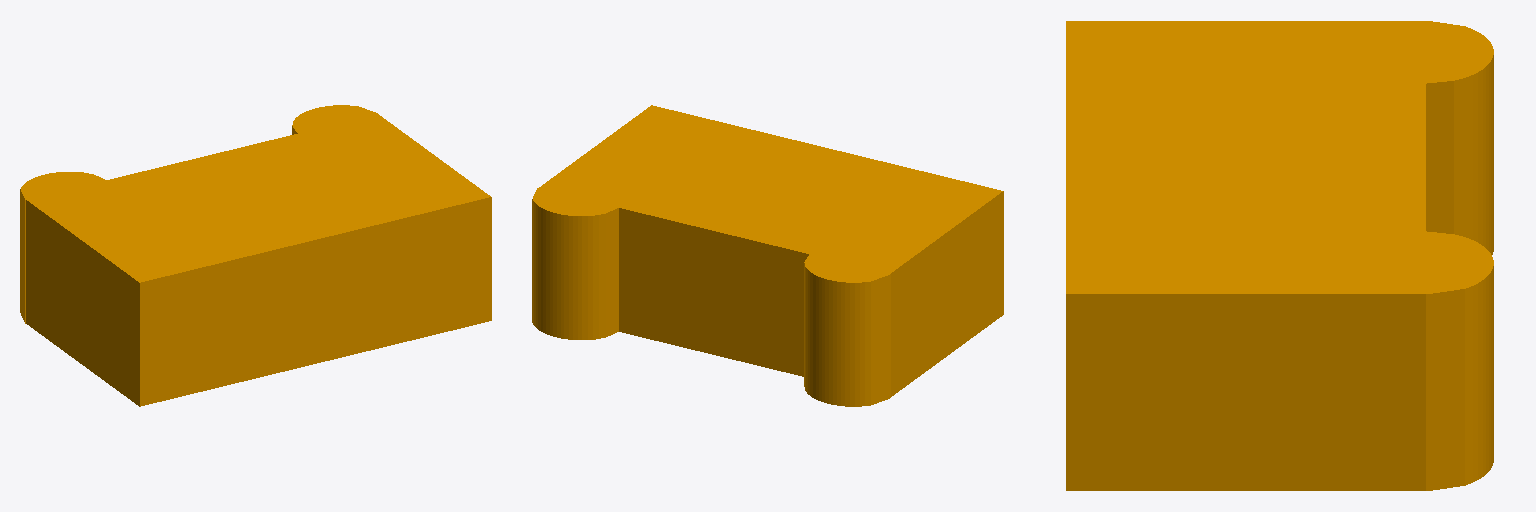
The robot description file, URDF, robot "2v2_65.35_65.35_1.1_73":
<?xml version="1.0" ?>
<robot name="2v2_65.35_65.35_1.1_73">

    <link name="palm">
        <visual>
            <origin rpy="0 0 0" xyz="0 0 0"/>
            <geometry>
                <mesh filename="obj_files/palm.obj" scale="1 1 1"/>
            </geometry>
        </visual>
        <collision>
            <geometry>
                <mesh filename="obj_files/palm_collision.obj" scale="1 1 1"/>
            </geometry>
        </collision>
        <inertial>
            <mass value="1"/>
            <inertia ixx="0.4" ixy="0.0" ixz="0.0" iyy="0.4" iyz="0.0" izz="0.2"/>
        </inertial>
    </link>

    <link name="finger0_segment0">
        <visual>
            <origin rpy="0 0 0" xyz="0 0 0"/>
            <geometry>
                <mesh filename="obj_files/finger0_segment0.obj" scale="1 1 1"/>
            </geometry>
        </visual>
        <collision>
            <geometry>
                <mesh filename="obj_files/finger0_segment0_collision.obj" scale="1 1 1"/>
            </geometry>
        </collision>
        <inertial>
            <mass value="0.1"/>
            <inertia ixx="0.4" ixy="0.0" ixz="0.0" iyy="0.4" iyz="0.0" izz="0.2"/>
        </inertial>
    </link>

    <joint name="finger0_segment0_joint" type="revolute">
        <parent link="palm"/>
        <child link="finger0_segment0"/>
        <origin rpy="0 0 0" xyz="0.03675 0 0.0"/>
        <axis xyz="0 0 1"/>
        <limit effort="1000.0" lower="-3.14" upper="3.14" velocity="0.5"/>
    </joint>

    <link name="finger0_segment1">
        <visual>
            <origin rpy="0 0 0" xyz="0 0 0"/>
            <geometry>
                <mesh filename="obj_files/finger0_segment1.obj" scale="1 1 1"/>
            </geometry>
        </visual>
        <collision>
            <geometry>
                <mesh filename="obj_files/finger0_segment1_collision.obj" scale="1 1 1"/>
            </geometry>
        </collision>
        <inertial>
            <mass value="0.1"/>
            <inertia ixx="0.4" ixy="0.0" ixz="0.0" iyy="0.4" iyz="0.0" izz="0.2"/>
        </inertial>
    </link>

    <joint name="finger0_segment1_joint" type="revolute">
        <parent link="finger0_segment0"/>
        <child link="finger0_segment1"/>
        <origin rpy="0 0 0" xyz="0 0.0936 0"/>
        <axis xyz="0 0 1"/>
        <limit effort="1000.0" lower="-3.14" upper="3.14" velocity="0.5"/>
    </joint>

    <link name="finger1_segment0">
        <visual>
            <origin rpy="0 0 0" xyz="0 0 0"/>
            <geometry>
                <mesh filename="obj_files/finger1_segment0.obj" scale="1 1 1"/>
            </geometry>
        </visual>
        <collision>
            <geometry>
                <mesh filename="obj_files/finger1_segment0_collision.obj" scale="1 1 1"/>
            </geometry>
        </collision>
        <inertial>
            <mass value="0.1"/>
            <inertia ixx="0.4" ixy="0.0" ixz="0.0" iyy="0.4" iyz="0.0" izz="0.2"/>
        </inertial>
    </link>

    <joint name="finger1_segment0_joint" type="revolute">
        <parent link="palm"/>
        <child link="finger1_segment0"/>
        <origin rpy="0 0 0" xyz="-0.03675 0 4.500576986866523e-18"/>
        <axis xyz="0 0 1"/>
        <limit effort="1000.0" lower="-3.14" upper="3.14" velocity="0.5"/>
    </joint>

    <link name="finger1_segment1">
        <visual>
            <origin rpy="0 0 0" xyz="0 0 0"/>
            <geometry>
                <mesh filename="obj_files/finger1_segment1.obj" scale="1 1 1"/>
            </geometry>
        </visual>
        <collision>
            <geometry>
                <mesh filename="obj_files/finger1_segment1_collision.obj" scale="1 1 1"/>
            </geometry>
        </collision>
        <inertial>
            <mass value="0.1"/>
            <inertia ixx="0.4" ixy="0.0" ixz="0.0" iyy="0.4" iyz="0.0" izz="0.2"/>
        </inertial>
    </link>

    <joint name="finger1_segment1_joint" type="revolute">
        <parent link="finger1_segment0"/>
        <child link="finger1_segment1"/>
        <origin rpy="0 0 0" xyz="0 0.0936 0"/>
        <axis xyz="0 0 1"/>
        <limit effort="1000.0" lower="-3.14" upper="3.14" velocity="0.5"/>
    </joint>
    <link name="finger0_sensor">
        <inertial>
            <mass value="0.000001"/>
            <inertia ixx="0.000004" ixy="0.0" ixz="0.0" iyy="0.000004" iyz="0.0" izz="0.000002"/>
        </inertial>
    </link>

    <joint name="finger0_sensor1_joint" type="fixed">
        <parent link="finger0_segment1"/>
        <child link="finger0_sensor"/>
        <origin rpy="0 0 0" xyz="0 0.0504 0"/>
        <axis xyz="0 0 1"/>
        <limit effort="1000.0" lower="-3.14" upper="3.14" velocity="0.5"/>
    </joint>


    <link name="finger1_sensor">
        <inertial>
            <mass value="0.000001"/>
            <inertia ixx="0.000004" ixy="0.0" ixz="0.0" iyy="0.000004" iyz="0.0" izz="0.000002"/>
        </inertial>
    </link>

    <joint name="finger1_sensor2_joint" type="fixed">
        <parent link="finger1_segment1"/>
        <child link="finger1_sensor"/>
        <origin rpy="0 0 0" xyz="0 0.0504 0"/>
        <axis xyz="0 0 1"/>
        <limit effort="1000.0" lower="-3.14" upper="3.14" velocity="0.5"/>
    </joint>
</robot>

--- What the picture shows (computed from the rendered views, not written in the file) ---
Views: 3 orthographic renders of the robot side by side, from view 1: azimuth 30°, elevation 25°; view 2: azimuth 150°, elevation 25°; view 3: azimuth 270°, elevation 25°.
Robot: 2v2_65.35_65.35_1.1_73 — 7 links, 6 joints (4 revolute, 2 fixed); root link palm; default pose: every joint at zero.
Visible links, largest first — view 1: palm; view 2: palm; view 3: palm.
Boxes of the visible links, x1,y1,x2,y2 form: palm: [20, 105, 491, 406]; palm: [532, 105, 1003, 406]; palm: [1066, 21, 1493, 490].
Size in the robot's own frame: 0.0955 by 0.063 by 0.032 metres.
Meshes: 5 distinct files referenced, 1 mesh visuals loaded (1 OBJ); not drawn: 4 (reference not matched to a file when rendering).